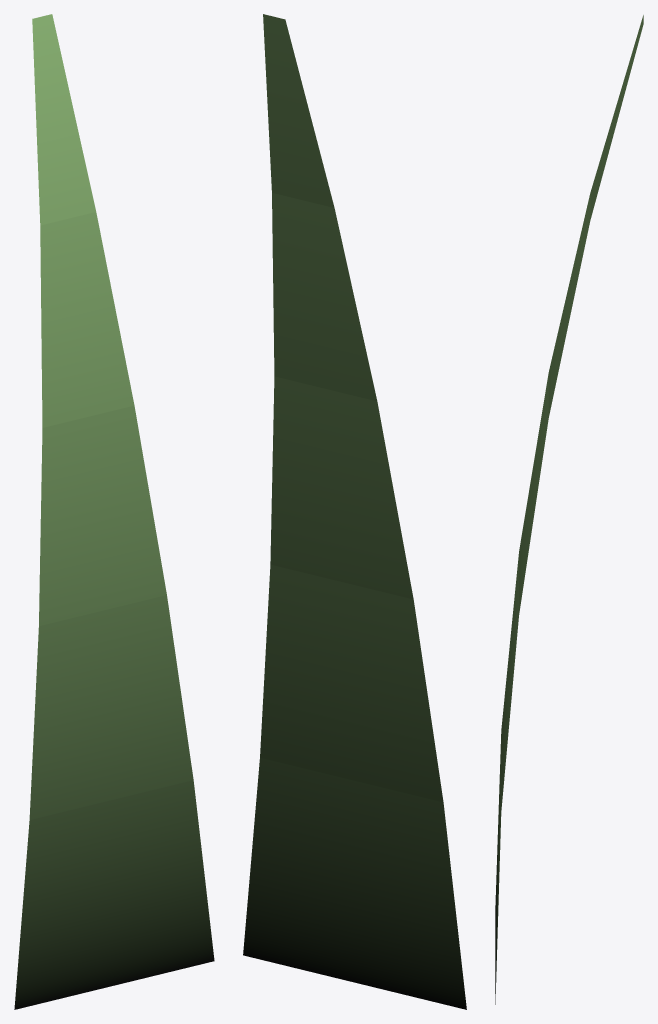
Rendered from grass_blade.glb.
The picture shows the model from 3 angles, left to right: view 1: azimuth 30°, elevation 25°; view 2: azimuth 150°, elevation 25°; view 3: azimuth 270°, elevation 25°; orthographic projection. The views are drawn at different scales.
Parts seen in each view (by area): view 1: GrassBlade; view 2: GrassBlade; view 3: GrassBlade.
Part boxes in pixels (x1,y1,x2,y2): GrassBlade: [14, 14, 214, 1009]; GrassBlade: [243, 14, 466, 1009]; GrassBlade: [495, 15, 643, 1004].
Size of the model in its own units: 0.08 by 0.35 by 0.05.
